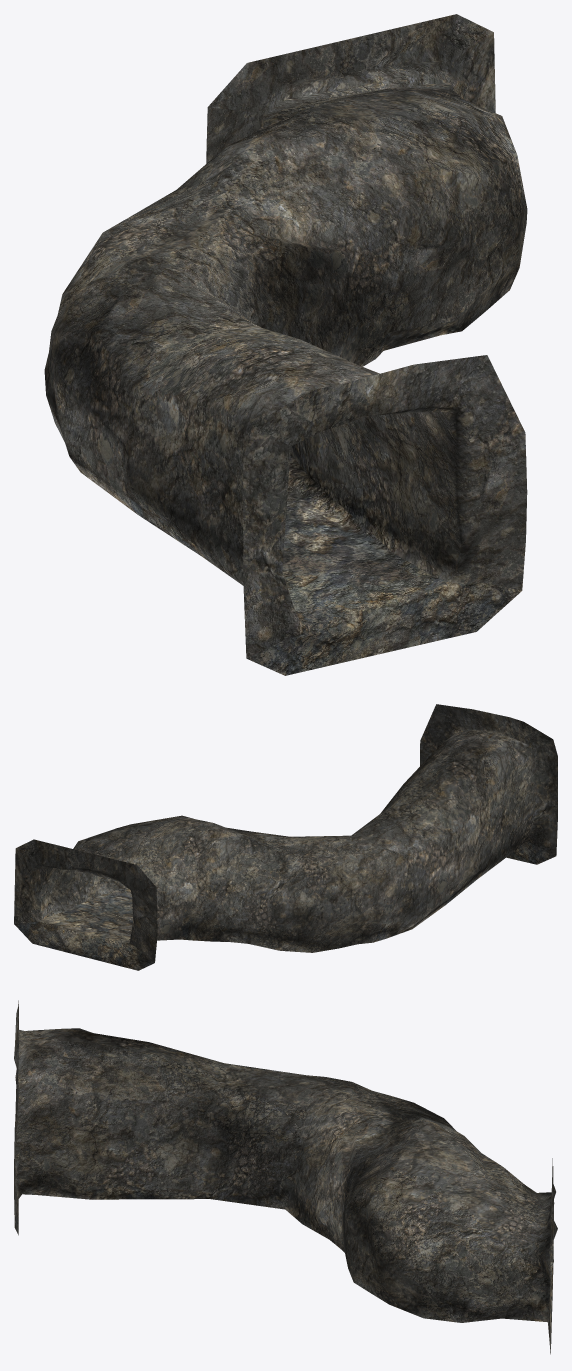
File: TutorialCave2.fbx
3 renders of one model, top to bottom at view 1: azimuth 30°, elevation 25°; view 2: azimuth 150°, elevation 25°; view 3: azimuth 270°, elevation 25°, orthographic. The views are drawn at different scales.
Parts seen in each view (by area): view 1: Cave14:TutorialCave2; view 2: Cave14:TutorialCave2; view 3: Cave14:TutorialCave2.
Boxes of the visible parts, bbox=[...] form: Cave14:TutorialCave2: bbox=[44, 14, 527, 675]; Cave14:TutorialCave2: bbox=[14, 704, 557, 970]; Cave14:TutorialCave2: bbox=[14, 1000, 557, 1354].
Size of the model in its own units: 2145 by 862 by 2363.
